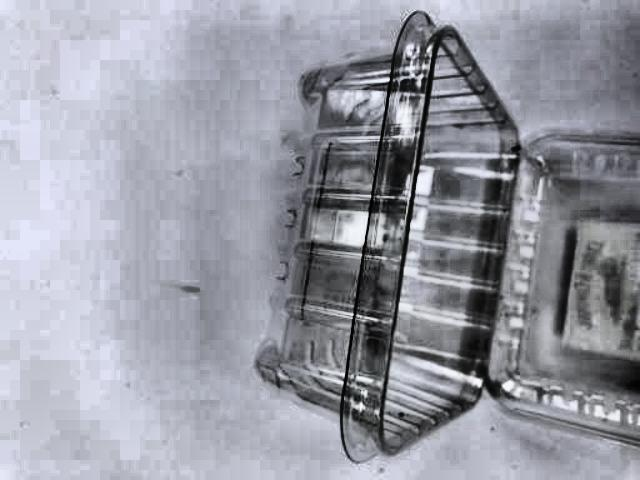Plastic: (250, 26, 640, 464)
